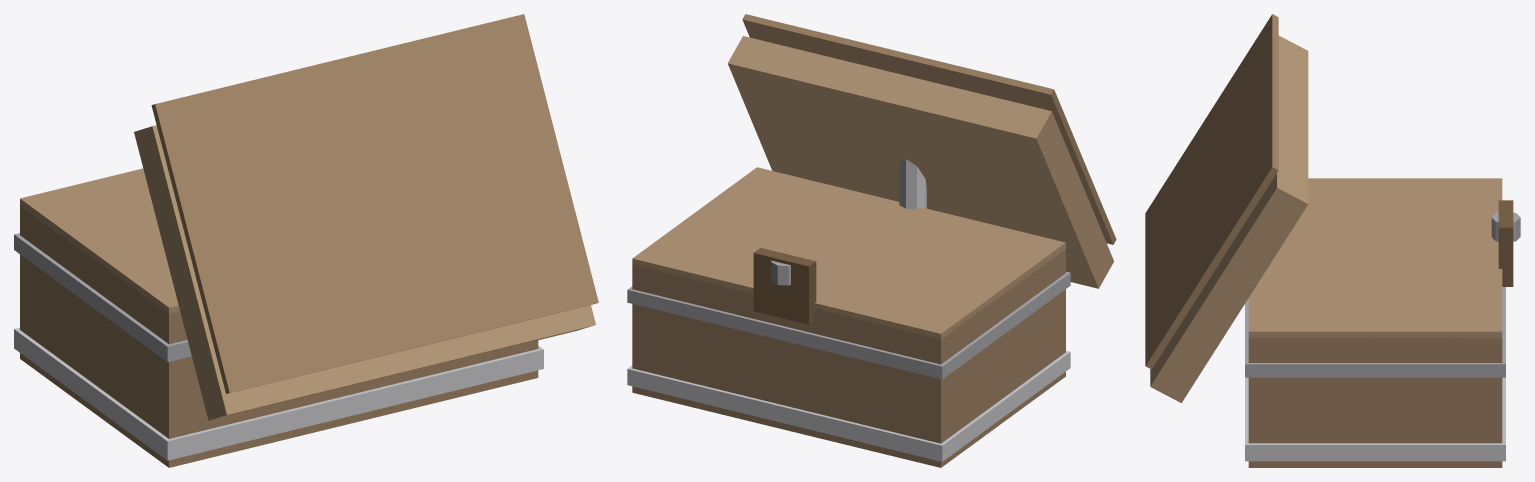
The model's file is chest_2.glb.
The picture shows the model from 3 angles, left to right: view 1: azimuth 30°, elevation 25°; view 2: azimuth 150°, elevation 25°; view 3: azimuth 270°, elevation 25°; orthographic projection. The views are drawn at different scales.
Parts seen in each view (by area): view 1: chest_tilt60; view 2: chest_tilt60; view 3: chest_tilt60.
Boxes of the visible parts, x1=… form: chest_tilt60: x1=14, y1=14, x2=598, y2=467; chest_tilt60: x1=627, y1=14, x2=1116, y2=467; chest_tilt60: x1=1145, y1=14, x2=1520, y2=467.
Bounding box in the file's own units: 1.02 × 0.9156 × 1.03.
